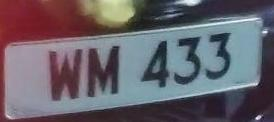3: (203, 28, 239, 87), (172, 32, 206, 92)
4: (135, 35, 175, 97)
M: (82, 42, 126, 104)
W: (44, 45, 86, 107)
